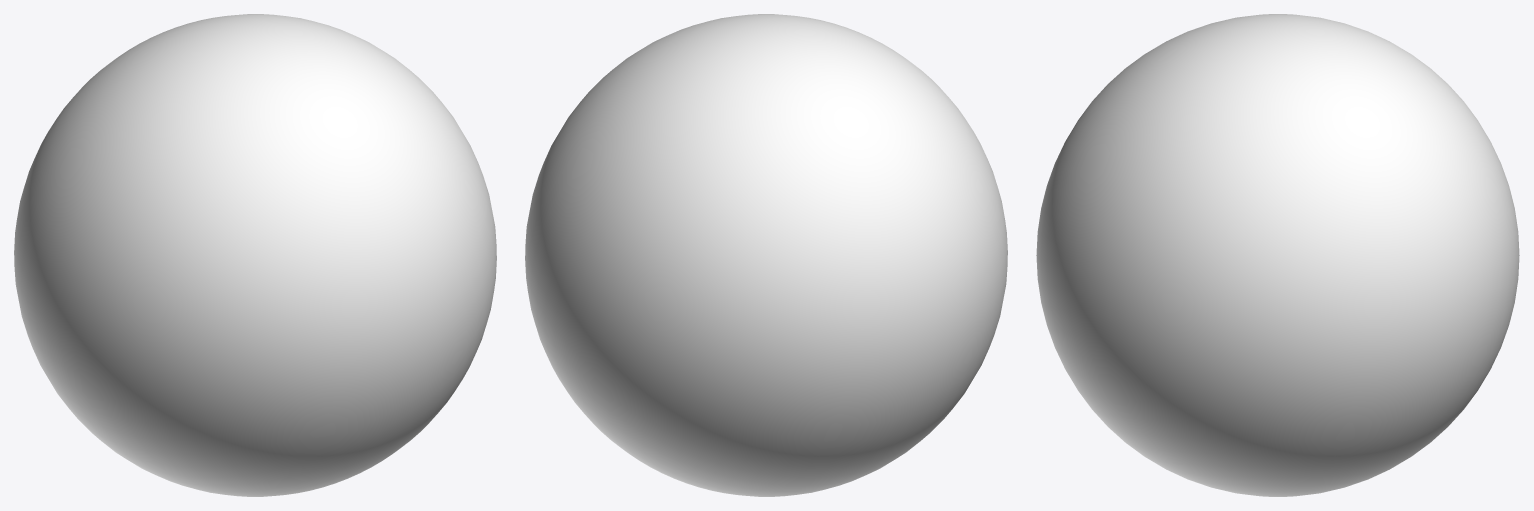
The model's file is glacius.glb.
The picture shows the model from 3 angles, left to right: view 1: azimuth 30°, elevation 25°; view 2: azimuth 150°, elevation 25°; view 3: azimuth 270°, elevation 25°; orthographic projection.
Parts seen in each view (by area): view 1: Clouds; view 2: Clouds; view 3: Clouds.
Part boxes in pixels (bbox=[...]): Clouds: bbox=[14, 14, 496, 496]; Clouds: bbox=[525, 14, 1007, 496]; Clouds: bbox=[1036, 14, 1519, 496].
Size of the model in its own units: 2.03 by 2.03 by 2.03.
2 materials, 2 textured.
